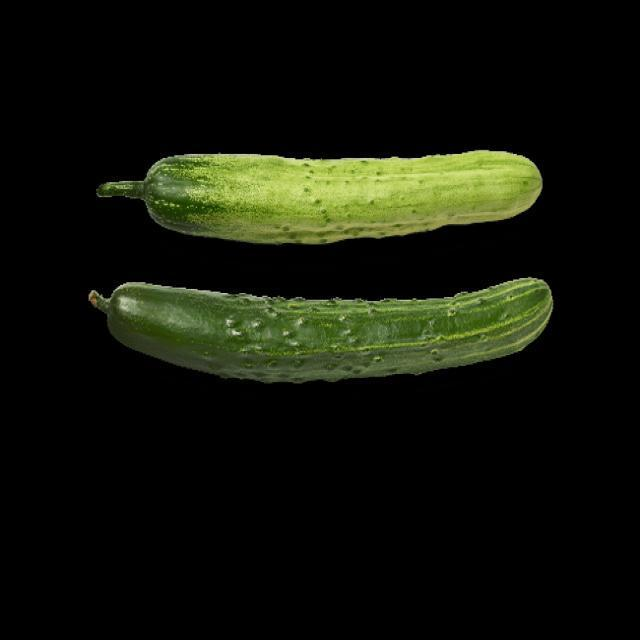cucumber: (58, 124, 594, 416), (74, 259, 580, 387), (75, 148, 561, 254)
